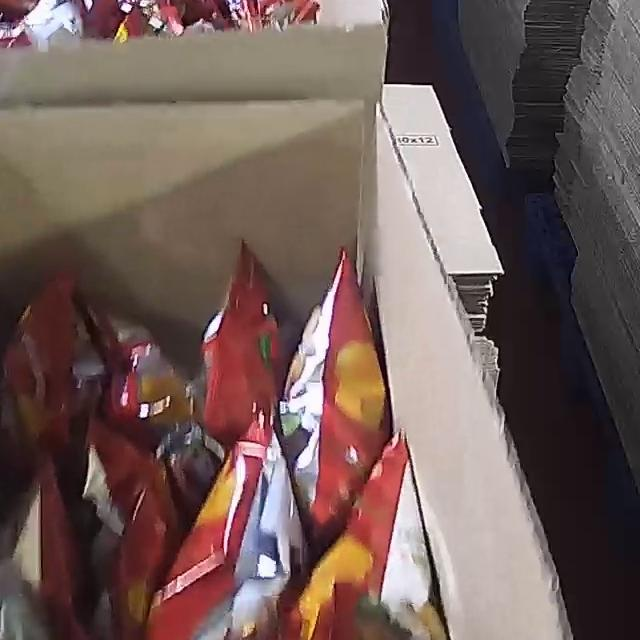masala: (0, 236, 504, 640), (0, 0, 347, 50)
